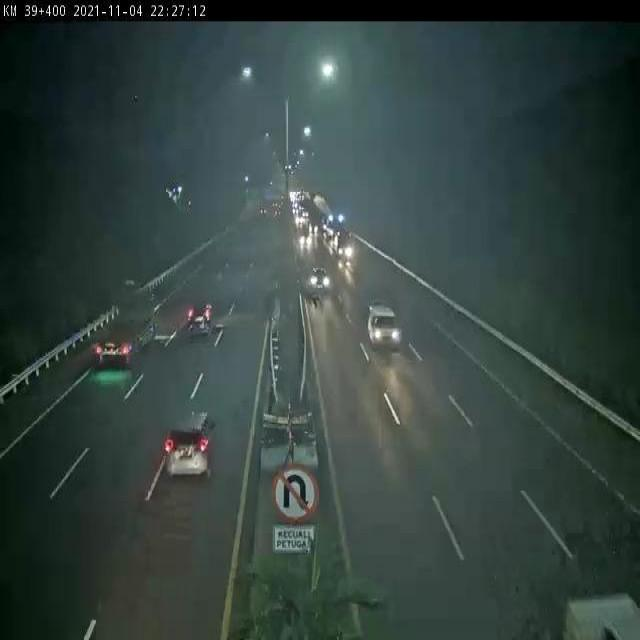car: (162, 405, 217, 483), (365, 295, 401, 348), (185, 293, 214, 336), (306, 264, 331, 292)
truck-m-: (91, 277, 157, 367)
